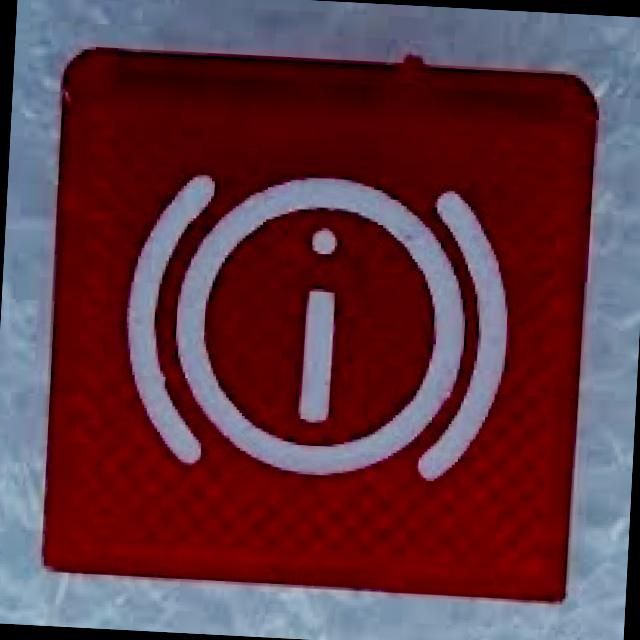kontrolka: (103, 162, 522, 489)
